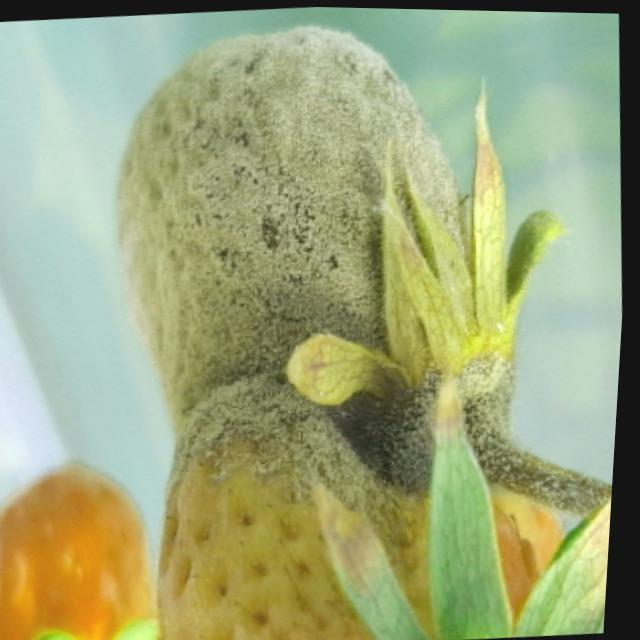Gray Mold: (119, 23, 618, 516), (160, 364, 442, 640)
